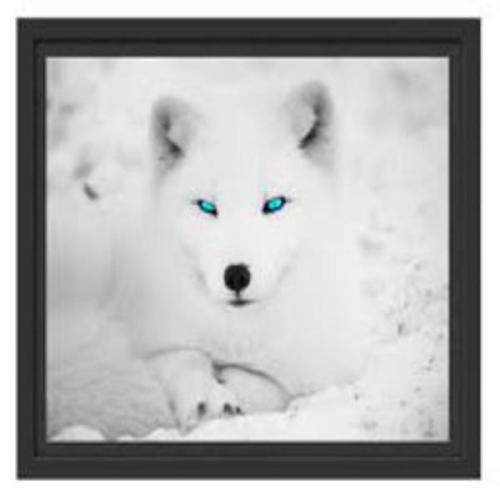arctic_fox-endangered: (58, 77, 371, 418)
